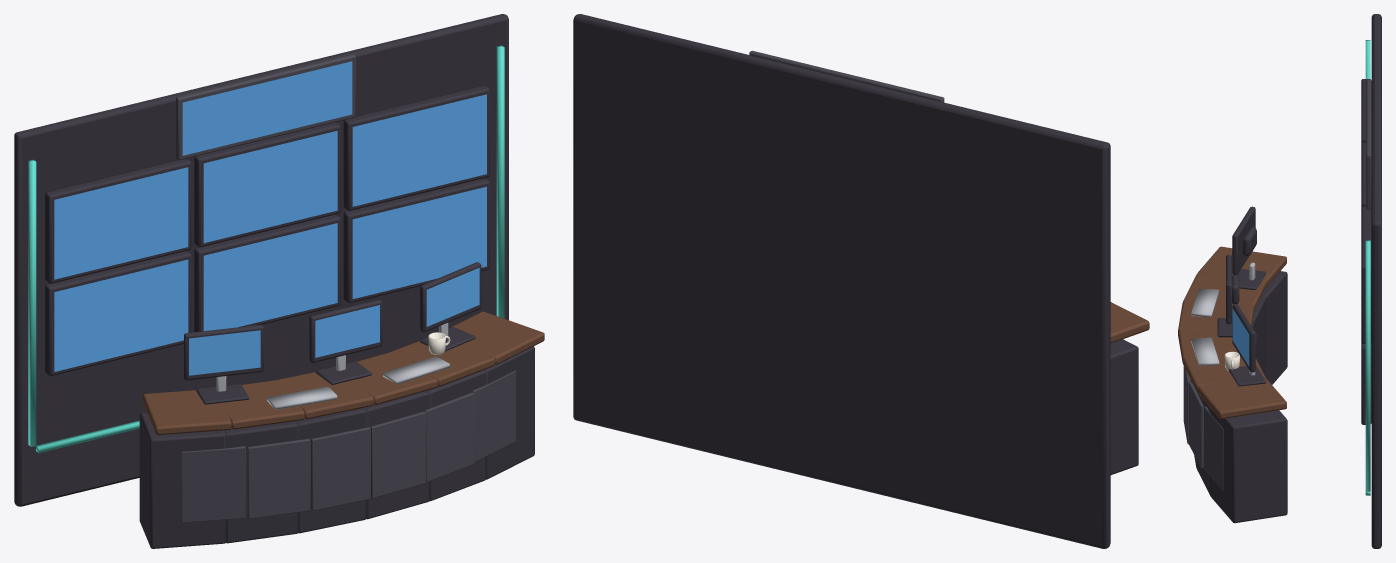
The model's file is noc_l2.glb.
3 views of the same model, side by side, from view 1: azimuth 30°, elevation 25°; view 2: azimuth 150°, elevation 25°; view 3: azimuth 270°, elevation 25° (orthographic). The views are drawn at different scales.
Parts seen in each view (by area): view 1: noc_l2, noc_wall0_screen, noc_wall2_screen, noc_wall1_screen, noc_wall3_screen, noc_wall4_screen, noc_wall5_screen, noc_sign_screen, noc_desk0_screen, noc_desk1_screen, noc_desk2_screen; view 2: noc_l2; view 3: noc_l2, noc_desk2_screen.
Boxes of the visible parts, left/top/right/bottom form: noc_l2: left=14, top=14, right=544, bottom=548; noc_wall0_screen: left=54, top=167, right=188, bottom=279; noc_wall2_screen: left=352, top=94, right=486, bottom=206; noc_wall1_screen: left=203, top=130, right=337, bottom=242; noc_wall3_screen: left=54, top=259, right=188, bottom=371; noc_wall4_screen: left=203, top=223, right=337, bottom=331; noc_wall5_screen: left=352, top=186, right=486, bottom=298; noc_sign_screen: left=182, top=61, right=352, bottom=155; noc_desk0_screen: left=189, top=330, right=260, bottom=375; noc_desk1_screen: left=315, top=305, right=379, bottom=357; noc_desk2_screen: left=426, top=267, right=479, bottom=326; noc_l2: left=573, top=14, right=1149, bottom=548; noc_l2: left=1178, top=14, right=1381, bottom=548; noc_desk2_screen: left=1232, top=308, right=1249, bottom=366.
Size of the model in its own units: 2.9 by 2.1 by 1.19.
